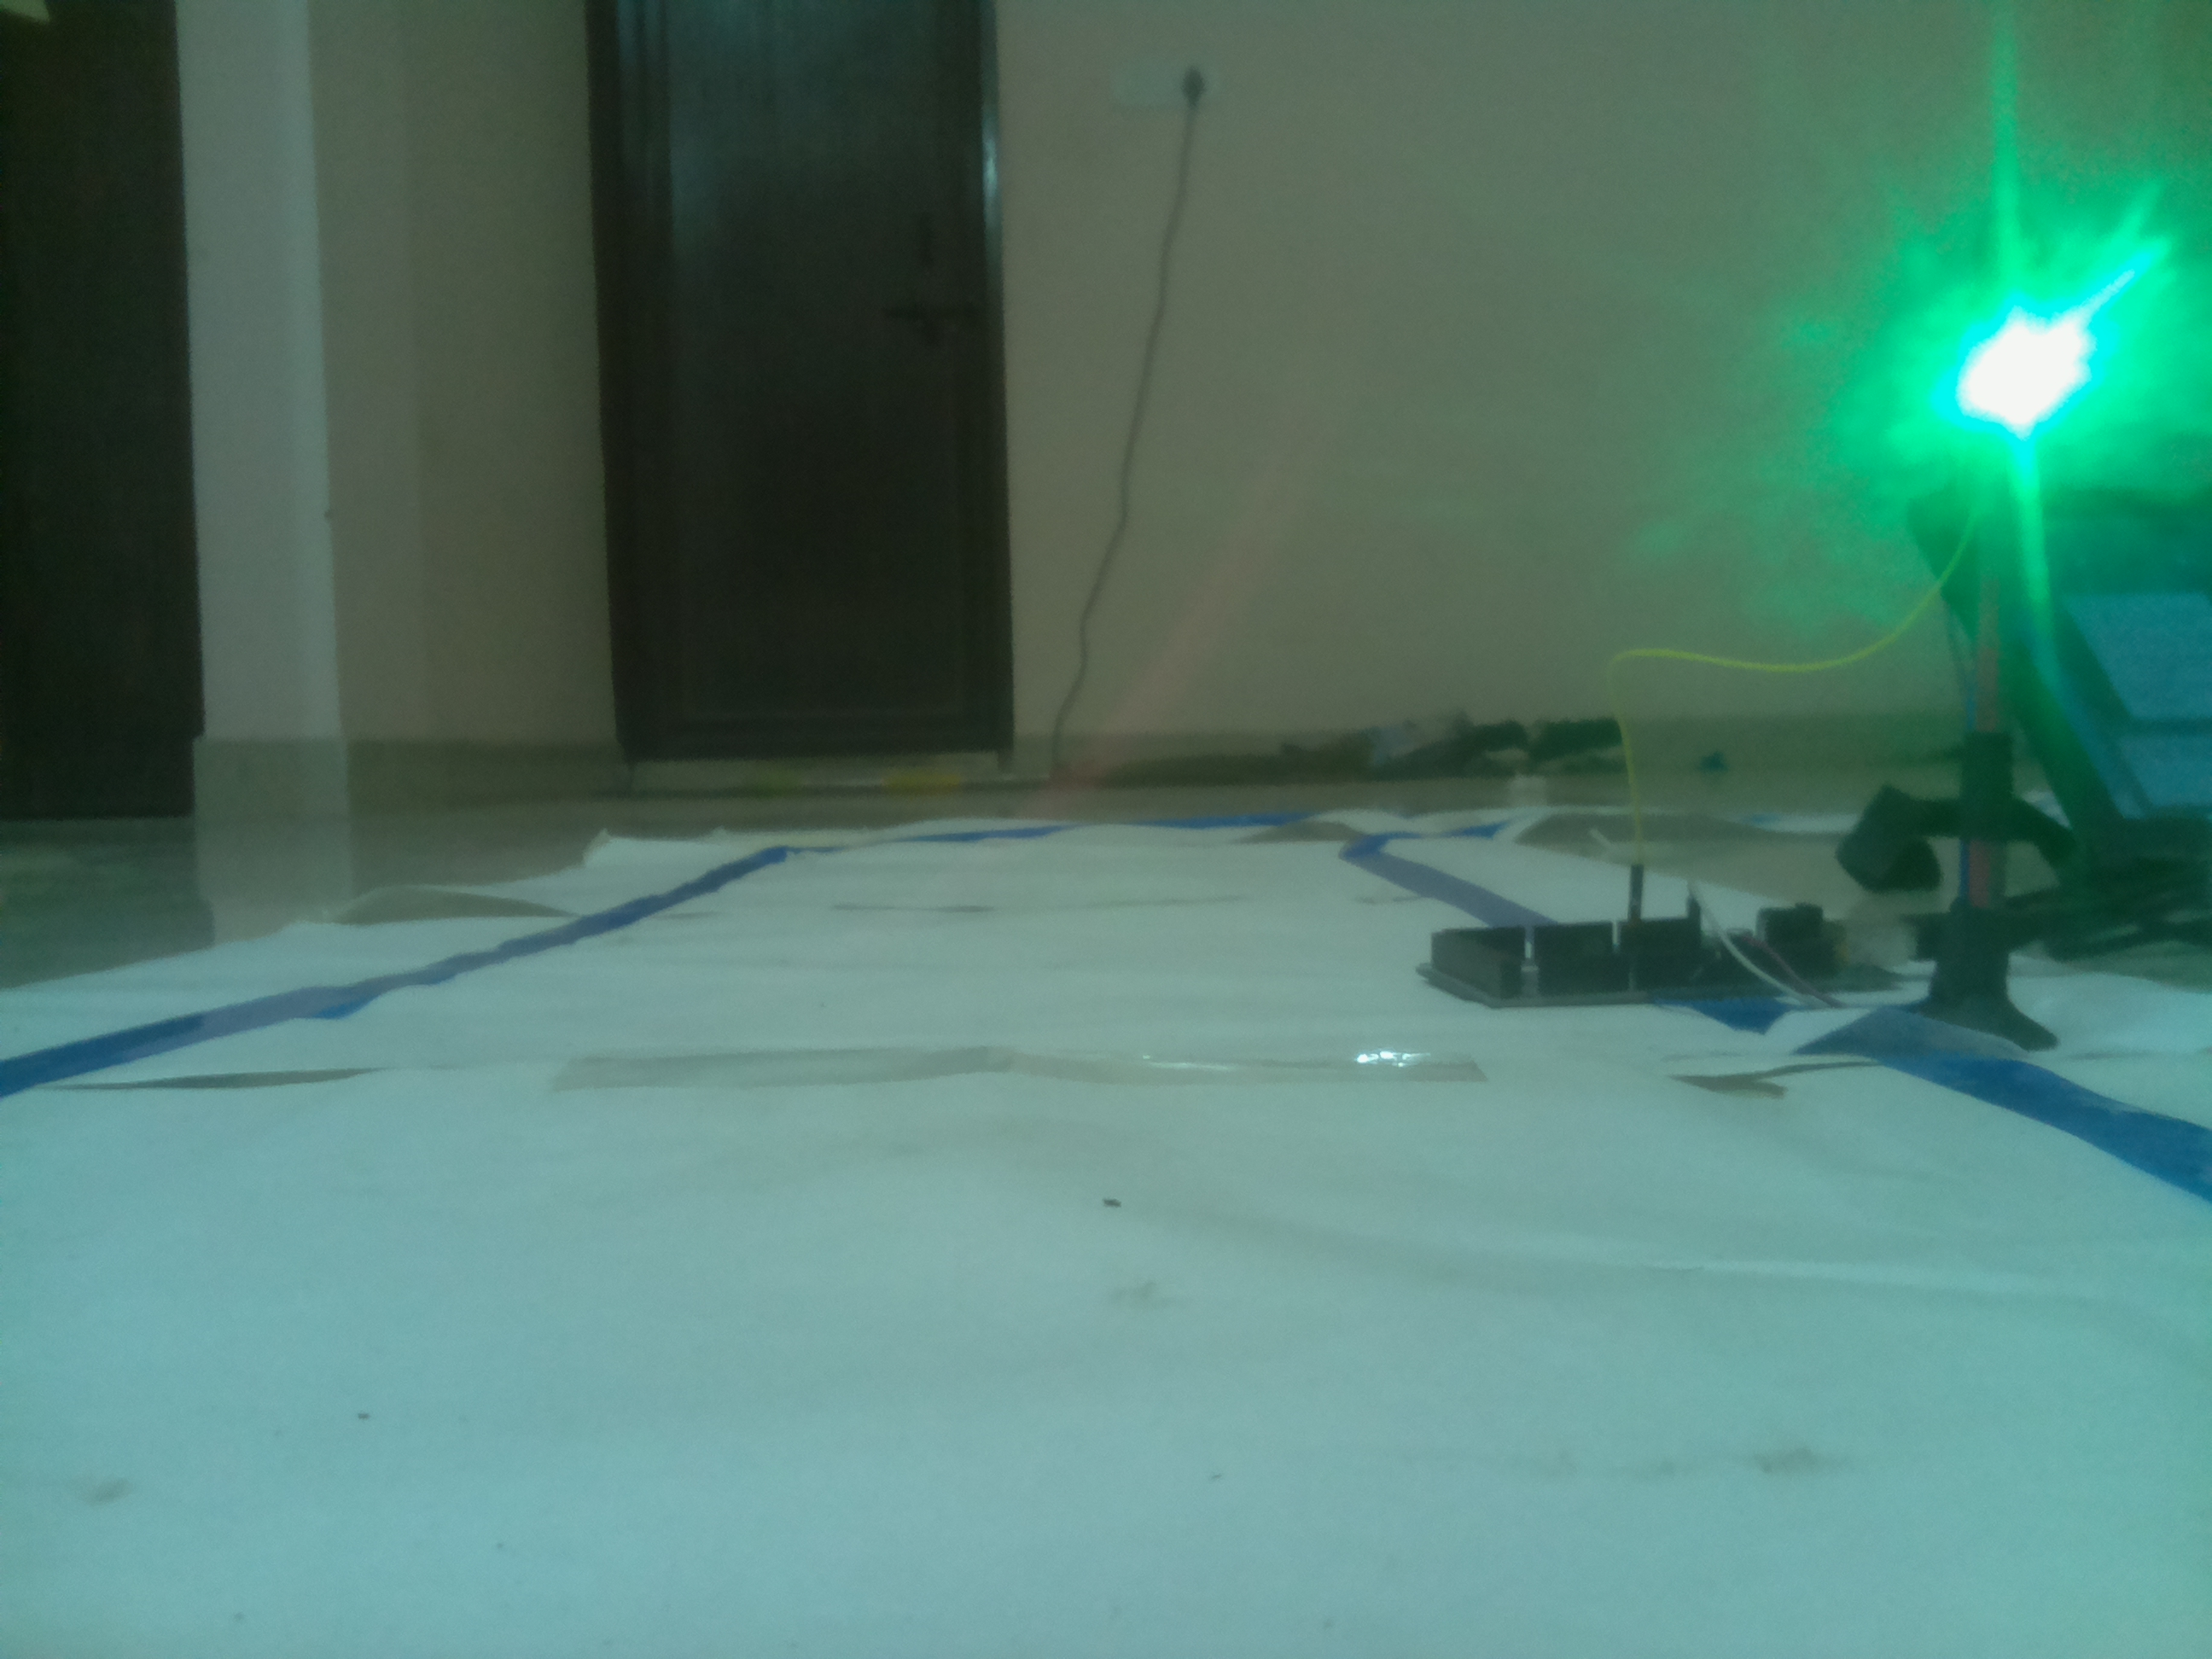green Light: (1879, 221, 2130, 606)
